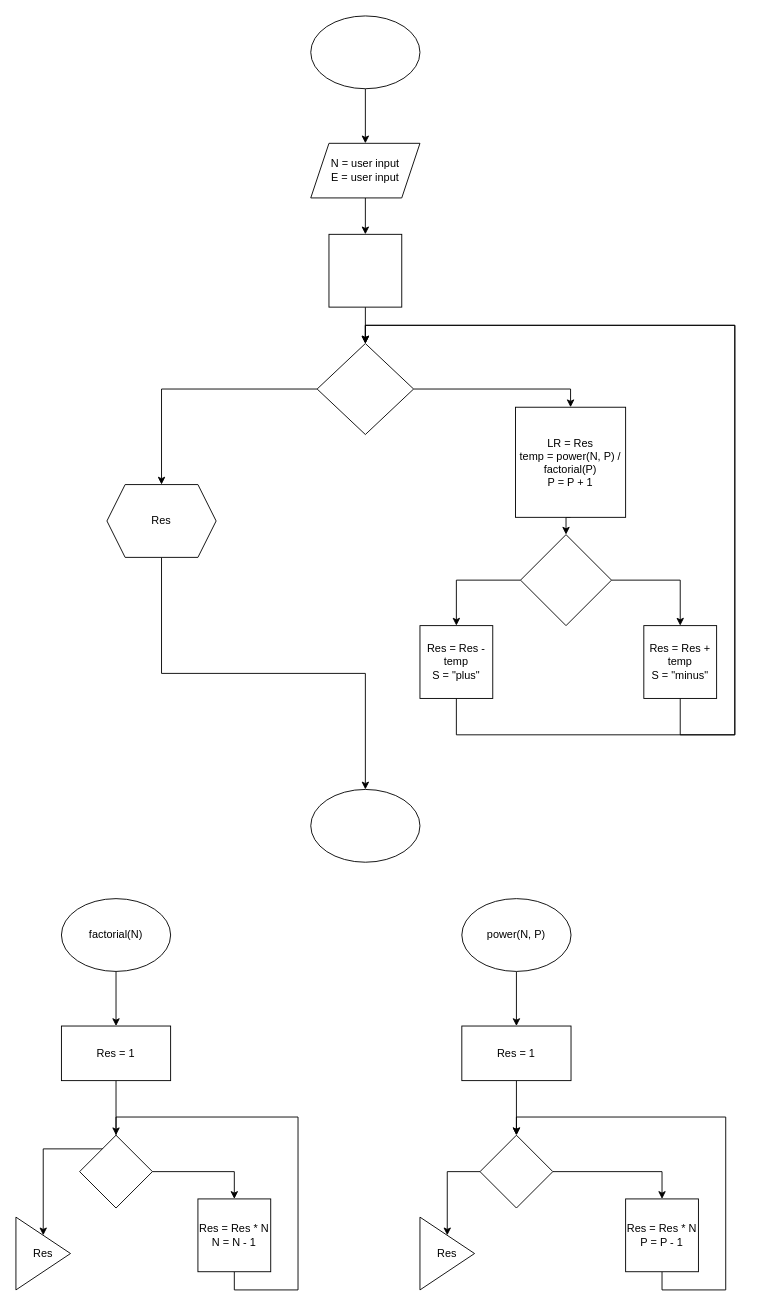
Some shapes in this 758 by 1313 pixel diagram are drawn without their labels. Each missing label, with the centre of its shape:
LR = E P = 3 Res = N S = "minus": point 365,270
N > 0: point 115,1171
P > 0: point 516,1171
S == "plus": point 566,580
Start: point 365,52
Stop: point 365,825
|LR - Res| > E: point 365,389
